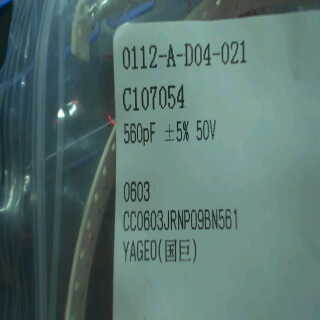560pF: (120, 115, 158, 150)
